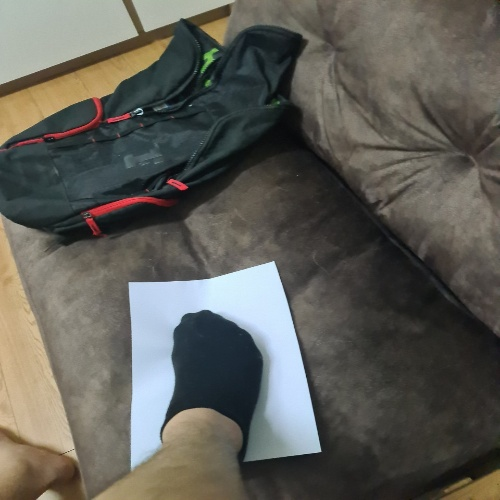Top_Foot: (111, 251, 342, 488)
